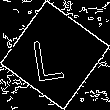L_N: (35, 27, 75, 83)
